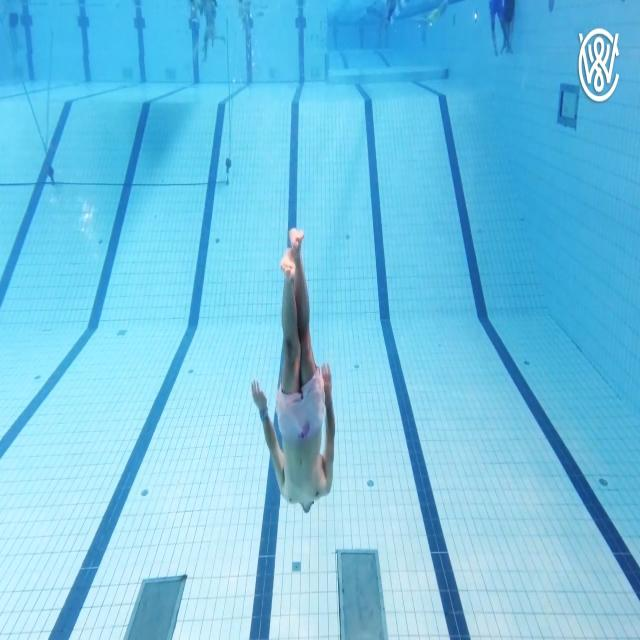Swimming: (251, 226, 340, 511)
